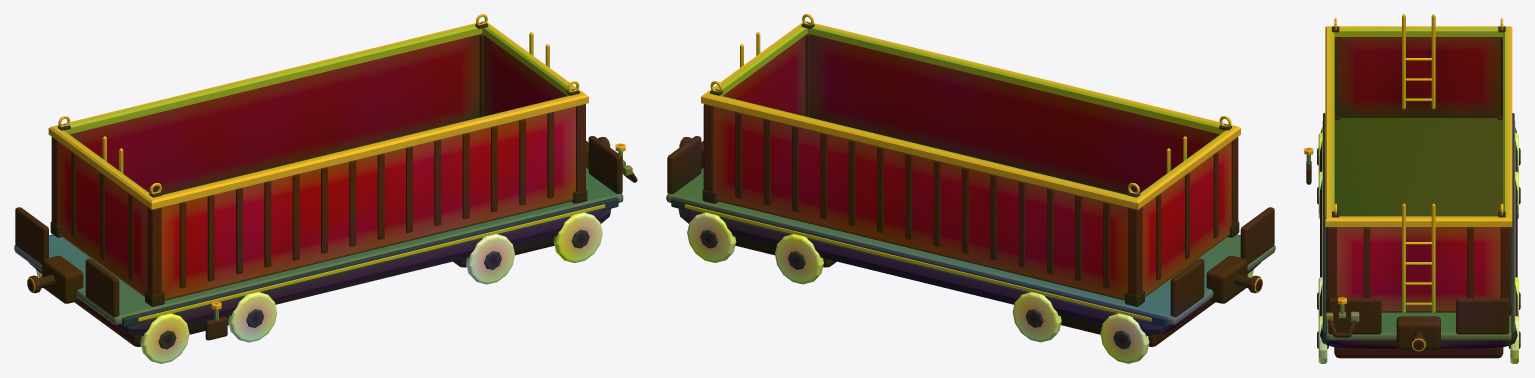
File: ContainerWagon_Blockout.fbx
3 renders of one model, left to right at view 1: azimuth 30°, elevation 25°; view 2: azimuth 150°, elevation 25°; view 3: azimuth 270°, elevation 25°, orthographic. The views are drawn at different scales.
Parts seen in each view (by area): view 1: Container, Deck, Underframe; view 2: Container, Deck, Underframe; view 3: Container, Deck, Underframe, Coupler_Front, Fixed_Rail__BrakeHose, Ends.
Part boxes in pixels (x1,y1,x2,y2): Container: [48, 14, 588, 306]; Deck: [14, 136, 623, 327]; Underframe: [28, 208, 611, 363]; Container: [701, 14, 1240, 306]; Deck: [666, 136, 1275, 327]; Underframe: [678, 208, 1260, 363]; Container: [1325, 14, 1512, 315]; Deck: [1322, 113, 1515, 349]; Underframe: [1317, 128, 1520, 363]; Coupler_Front: [1411, 331, 1426, 351]; Fixed_Rail__BrakeHose: [1328, 319, 1356, 337]; Ends: [1326, 311, 1359, 322].
Bounding box in the file's own units: 8.16 × 2.45 × 2.91.
